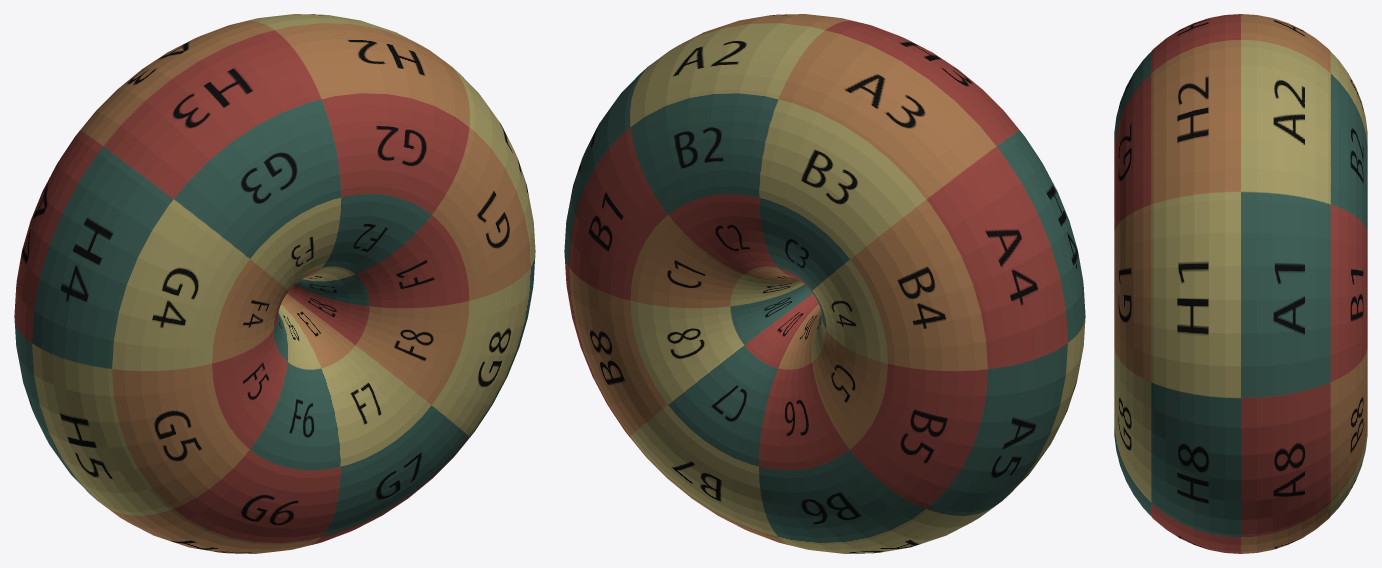
Rendered from texture_torus_R1_r28.glb.
The picture shows the model from 3 angles, left to right: view 1: azimuth 30°, elevation 25°; view 2: azimuth 150°, elevation 25°; view 3: azimuth 270°, elevation 25°; orthographic projection. The views are drawn at different scales.
Visible parts, largest first — view 1: world; view 2: world; view 3: world.
Part boxes in pixels (x1=…): world: x1=14, y1=14, x2=535, y2=553; world: x1=564, y1=14, x2=1085, y2=553; world: x1=1114, y1=14, x2=1367, y2=553.
Size of the model in its own units: 20.13 by 20.09 by 9.45.
1 material, 1 textured.
